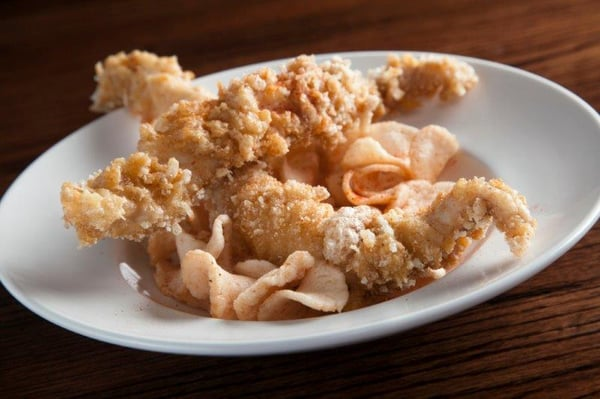curry: (11, 1, 600, 387)
